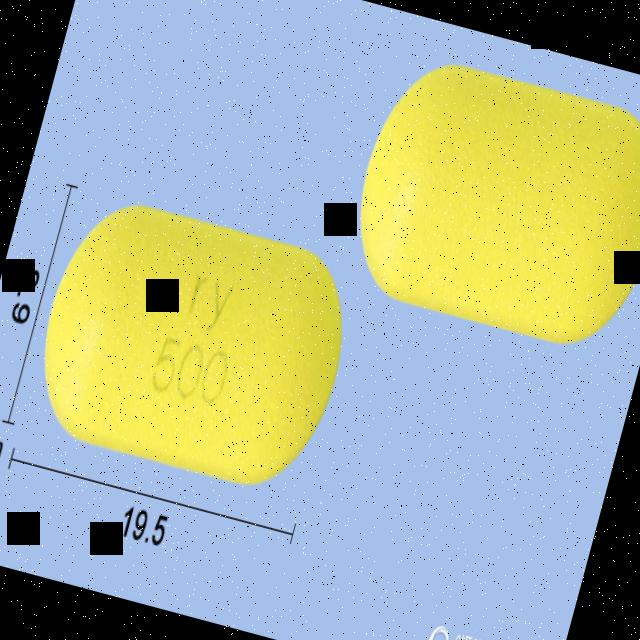Reyon Clarithromycin Tab: (18, 187, 366, 503)
